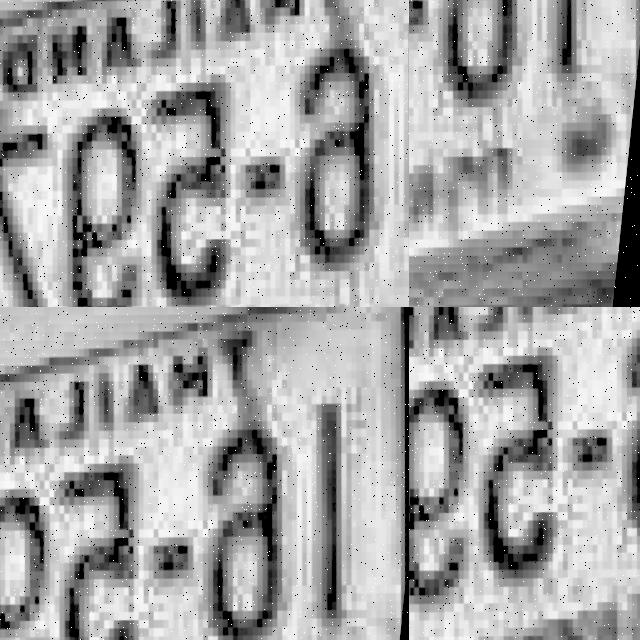license-plate: (0, 307, 409, 640), (409, 307, 640, 640), (409, 0, 640, 307)
